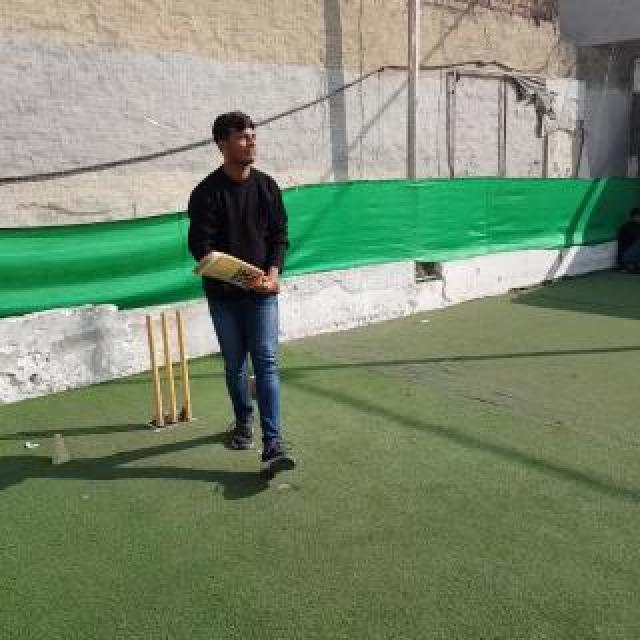bat: (192, 250, 282, 294)
